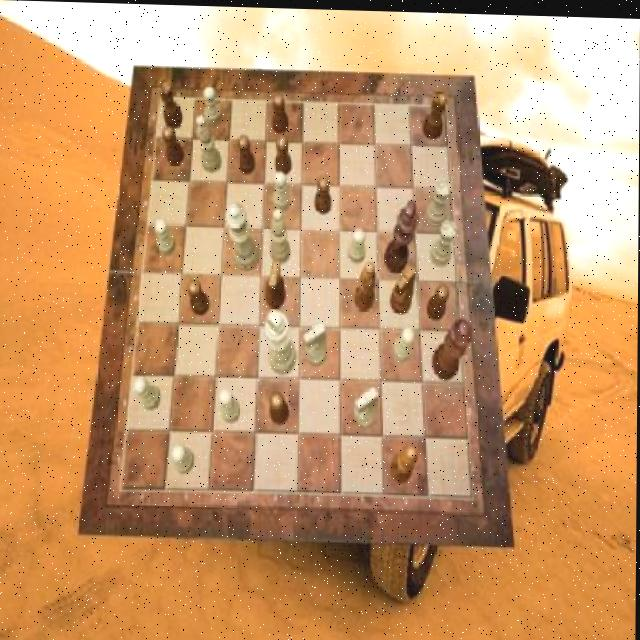bishop: (354, 259, 376, 309), (390, 443, 417, 482)
black-bishop: (384, 198, 419, 272)
black-king: (392, 263, 417, 313), (266, 260, 287, 308)
black-knight: (164, 126, 187, 165), (187, 278, 210, 315), (428, 282, 451, 319), (238, 133, 256, 173), (270, 389, 290, 424), (273, 92, 290, 133), (276, 134, 293, 174), (316, 174, 333, 213)
black-pawn: (433, 315, 474, 378)
black-queen: (424, 87, 449, 138), (160, 77, 184, 129)
black-rook: (196, 114, 222, 172), (271, 206, 292, 263)
white-bishop: (266, 307, 298, 374)
white-king: (304, 321, 327, 366), (356, 385, 379, 427)
white-knight: (135, 377, 162, 412), (393, 325, 416, 361), (219, 387, 242, 422), (156, 217, 177, 255), (204, 85, 223, 125), (173, 443, 196, 474), (273, 171, 290, 211), (349, 227, 367, 262)
white-pawn: (226, 203, 262, 271)
white-queen: (431, 218, 457, 265), (427, 176, 451, 224)
